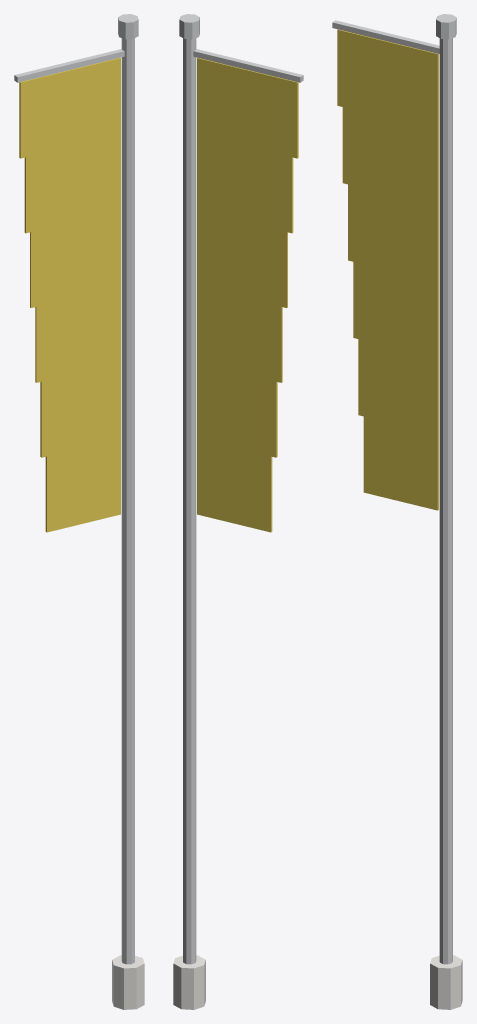
The model's file is Banner_Flag_Yellow.fbx.
3 renders of one model, left to right at view 1: azimuth 30°, elevation 25°; view 2: azimuth 150°, elevation 25°; view 3: azimuth 330°, elevation 25°, orthographic.
Visible parts, largest first — view 1: Banner_Flag_Yellow; view 2: Banner_Flag_Yellow; view 3: Banner_Flag_Yellow.
Boxes of the visible parts, box(x1,y1,x2,y2) form: Banner_Flag_Yellow: box(14, 14, 144, 1009); Banner_Flag_Yellow: box(173, 14, 303, 1009); Banner_Flag_Yellow: box(332, 14, 462, 1009).
Bounding box in the file's own units: 0.96 × 7.12 × 0.22.
